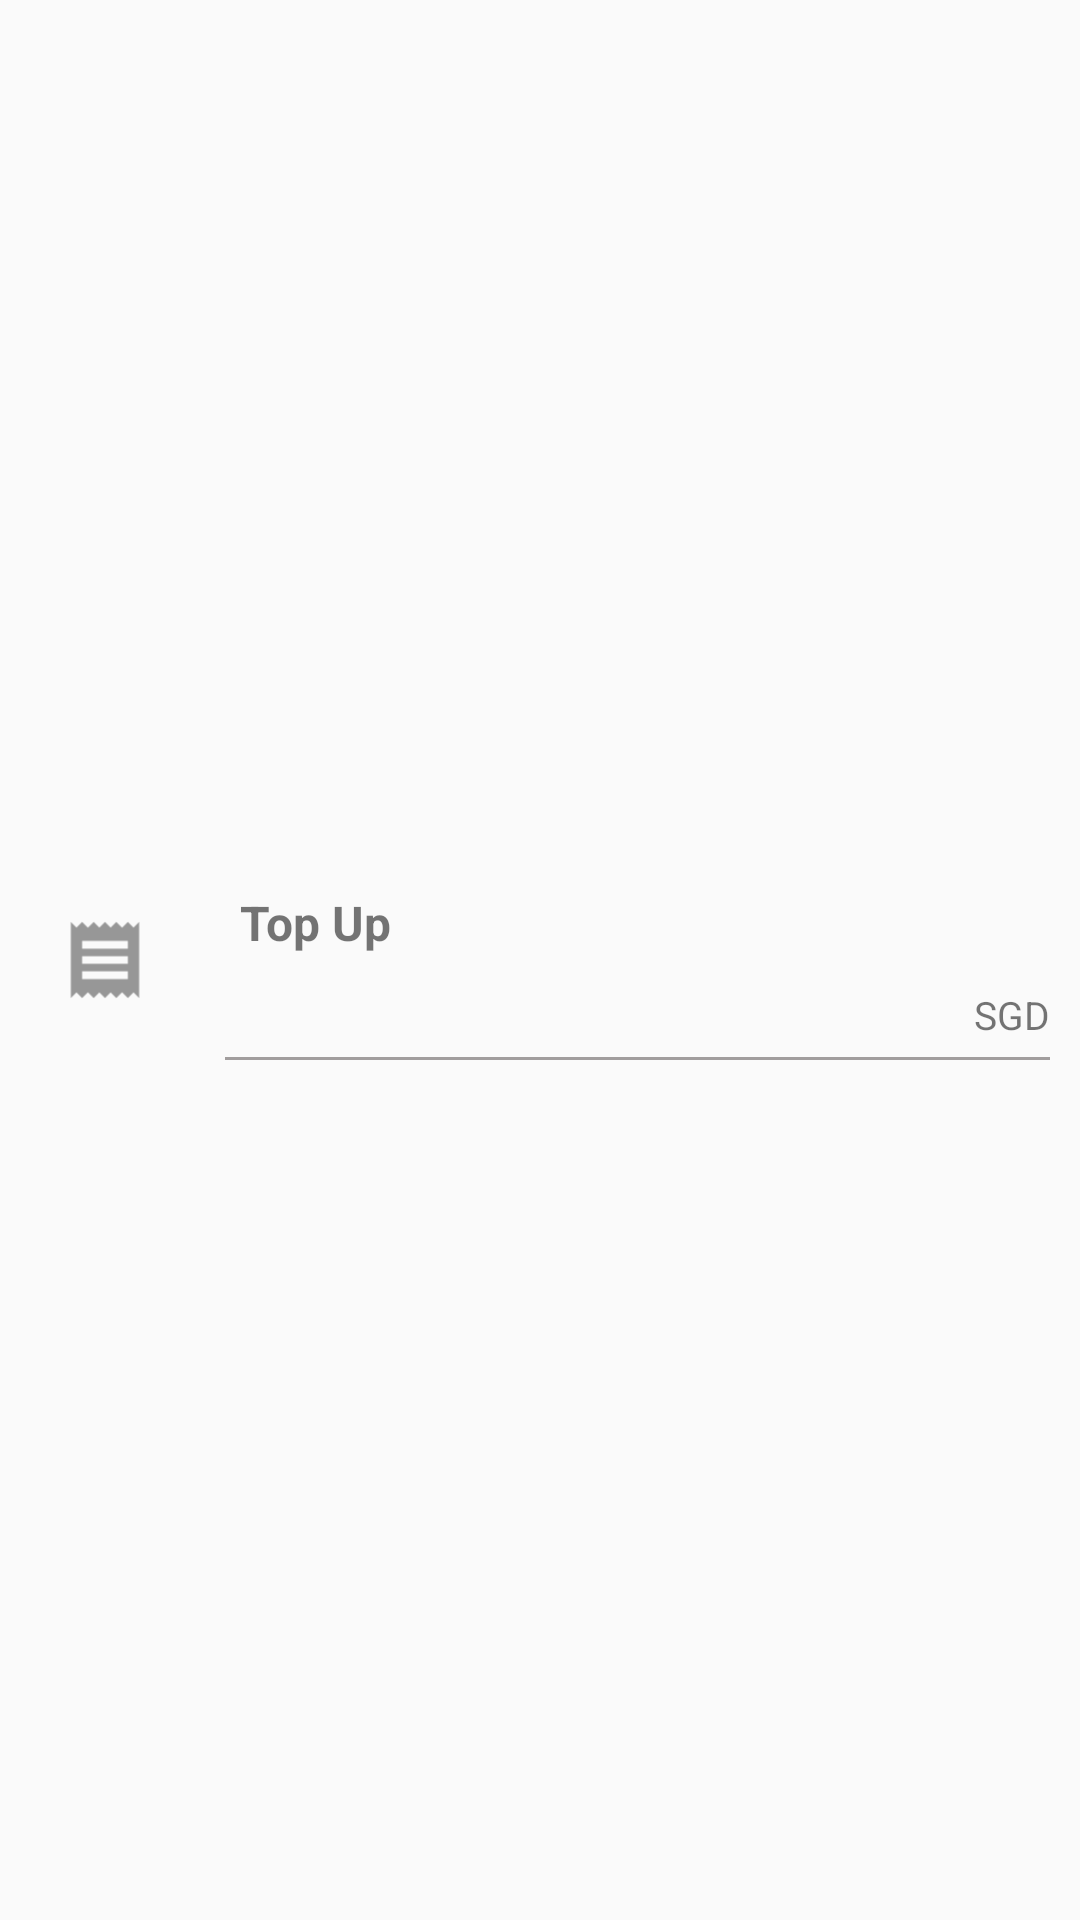

Where icons sit on this 1080 × 1920 app screen, as region(x1, y1, x2, y2):
record: region(70, 922, 140, 998)
